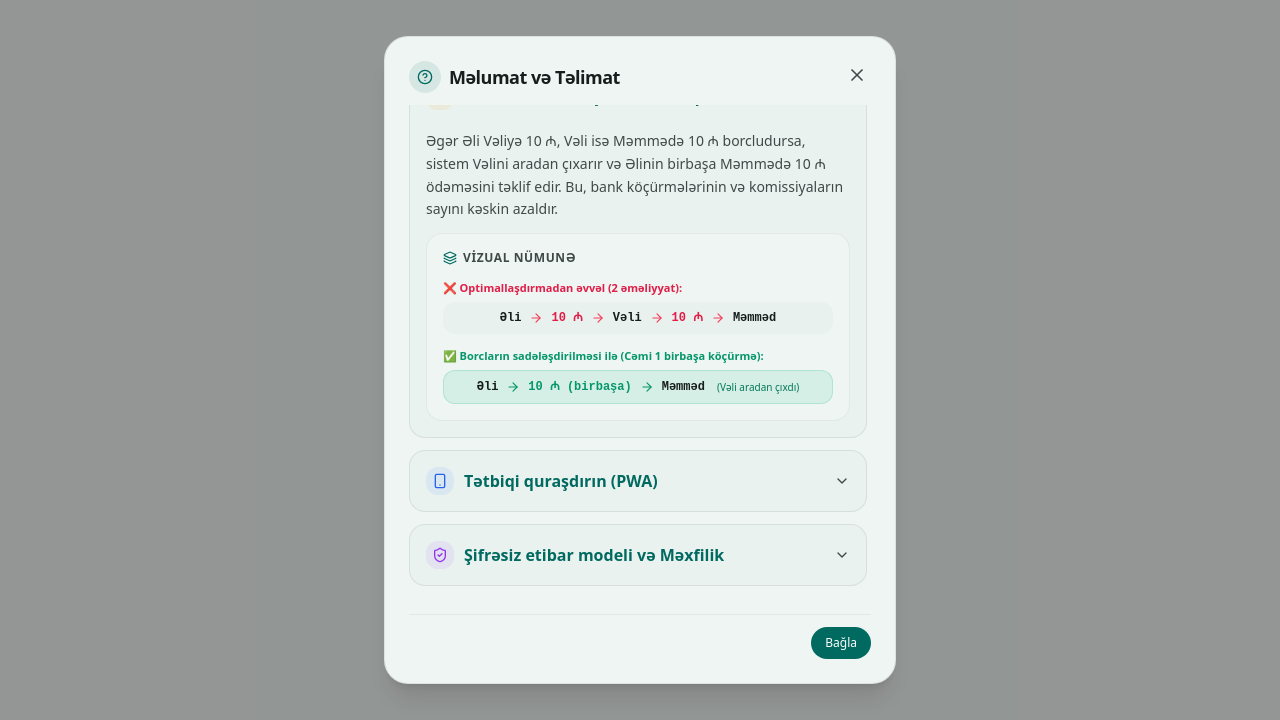
Test: Help & Info Modal ("HelpDialog") › expands and collapses accordion sections on click
(page scrolled)
expect the text "Apple iOS (Safari)" is not shown: met
# Click PWA header to expand
Click the button "Tətbiqi quraşdırın (PWA)": x=638, y=481 x1=410 y1=451 x2=866 y2=511
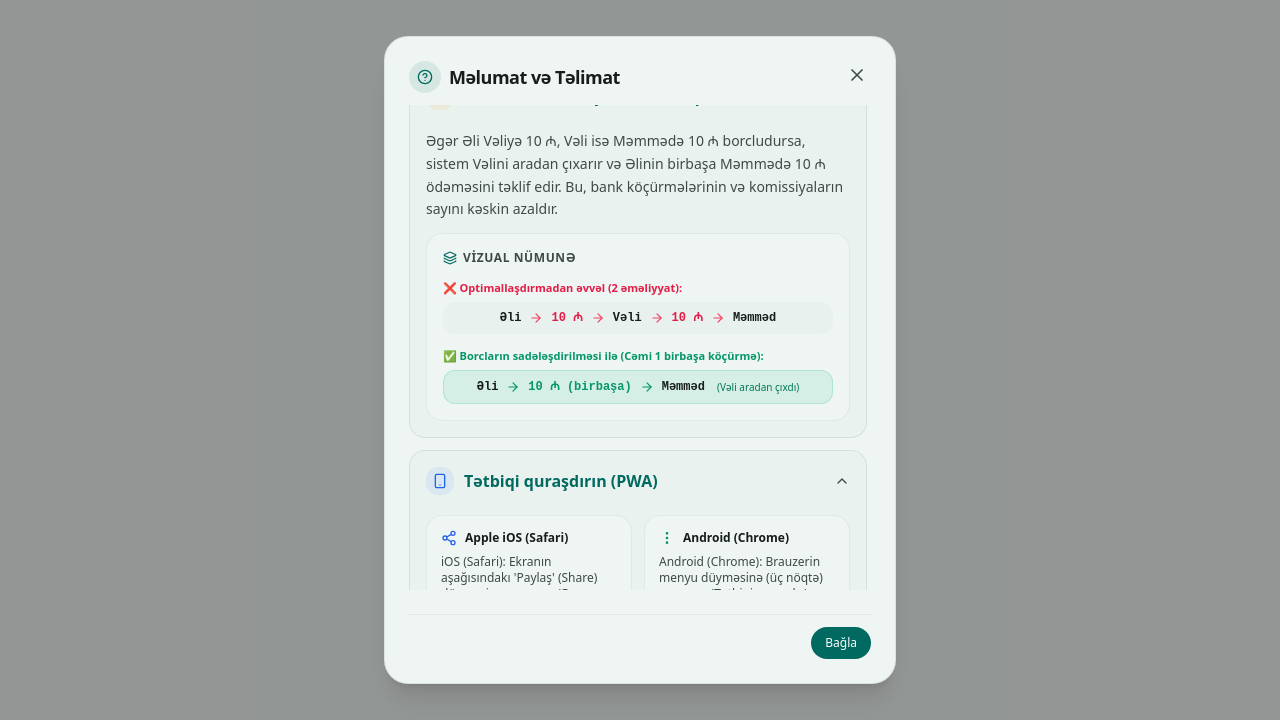
expect the text "Apple iOS (Safari)" is shown: met, box x1=465 y1=530 x2=568 y2=546
expect the text "Android (Chrome)" is shown: met, box x1=683 y1=530 x2=789 y2=546
# Click again to collapse
Click the button "Tətbiqi quraşdırın (PWA)": x=638, y=481 x1=410 y1=451 x2=866 y2=511
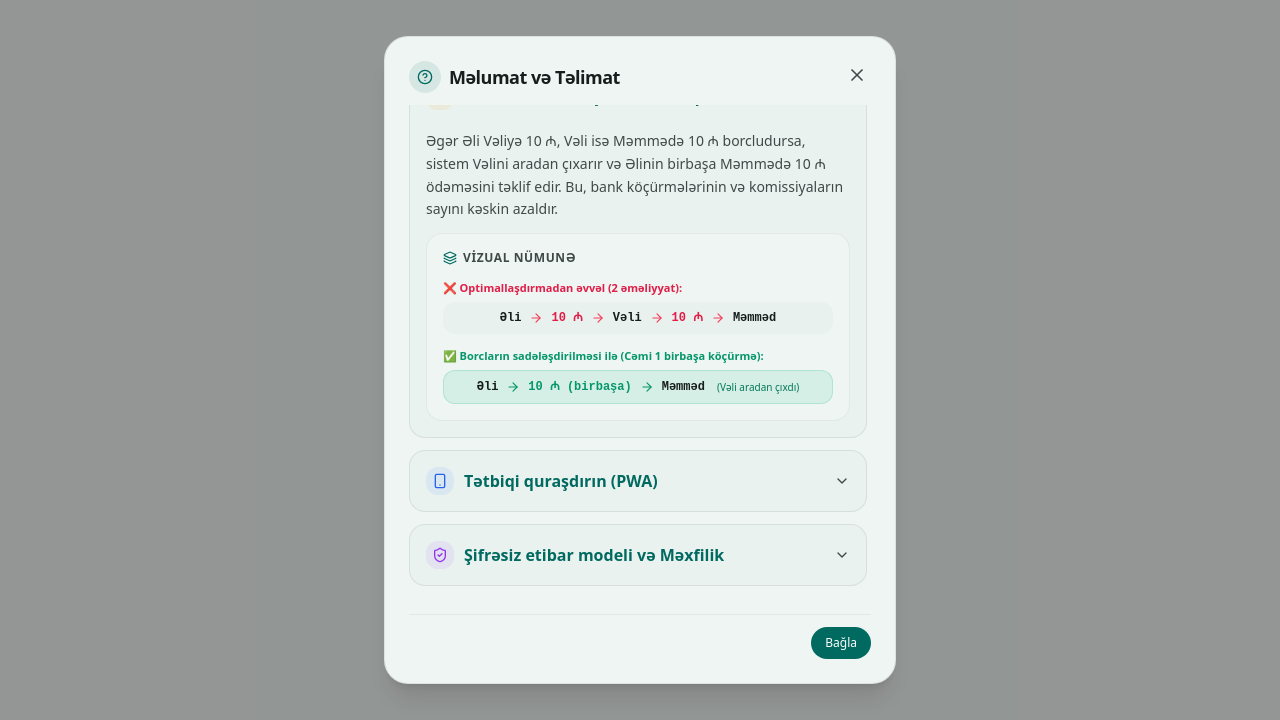
expect the text "Apple iOS (Safari)" is gone: met
